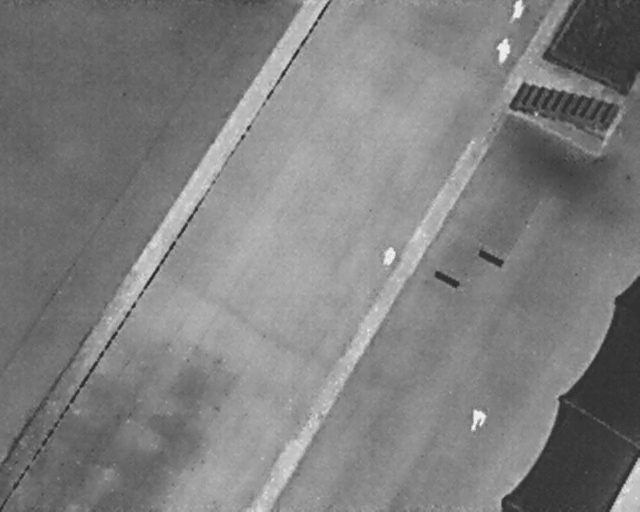Person: (493, 36, 512, 66), (470, 406, 488, 434), (380, 243, 397, 268), (508, 0, 527, 21)
